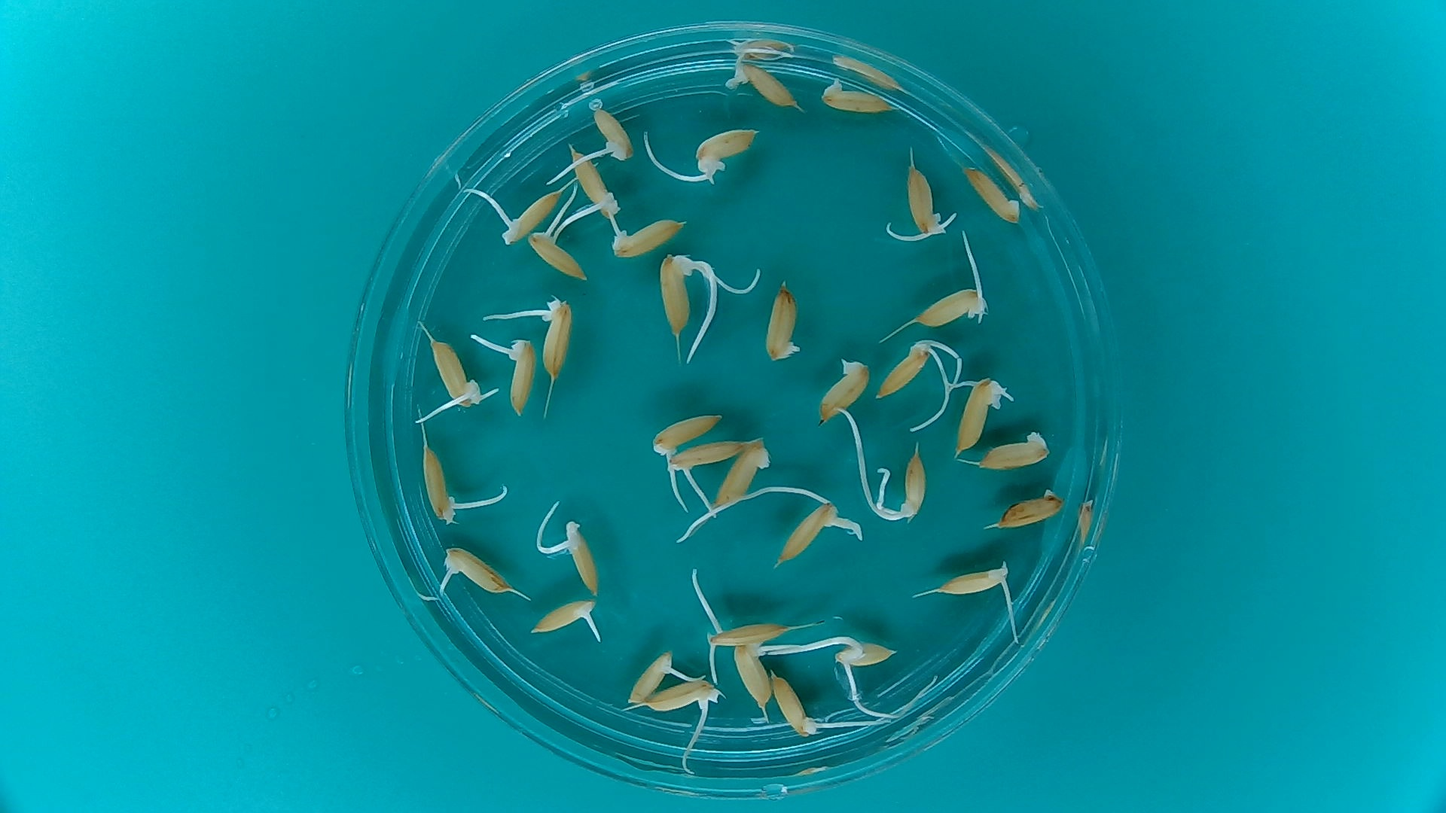no: (815, 352, 872, 427), (715, 437, 770, 511), (960, 164, 1023, 227), (762, 276, 804, 364), (989, 485, 1069, 531), (977, 428, 1054, 472), (817, 78, 894, 117)
yes: (950, 375, 1006, 453), (903, 157, 956, 239), (566, 146, 621, 219), (873, 341, 938, 401), (438, 545, 514, 596), (779, 502, 840, 565), (648, 409, 727, 457), (498, 187, 563, 244), (606, 214, 688, 259), (664, 437, 749, 480), (431, 341, 483, 411), (691, 123, 761, 173), (912, 281, 988, 326), (541, 300, 581, 381), (420, 440, 458, 525), (642, 677, 722, 717), (528, 595, 602, 638), (526, 231, 587, 282), (734, 59, 800, 105), (503, 331, 538, 417), (625, 647, 674, 705), (658, 253, 693, 334), (769, 678, 815, 738), (590, 102, 636, 161), (562, 520, 598, 595), (893, 453, 929, 523), (735, 642, 773, 707), (939, 565, 1011, 598), (709, 617, 782, 648), (837, 639, 900, 671)
